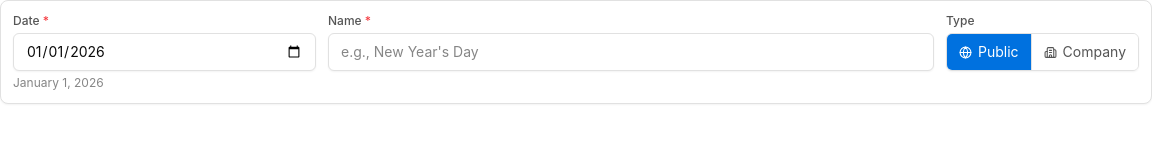
Scenario: HolidayForm › name validation › shows error for empty name after touch
Click the field with placeholder "e.g., New Year's Day". click: (631, 52)
box: [328,33,934,71]
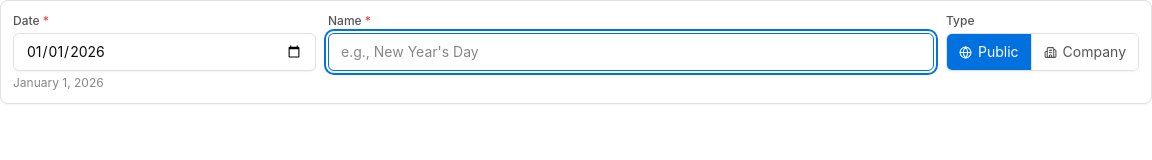
Press Tab
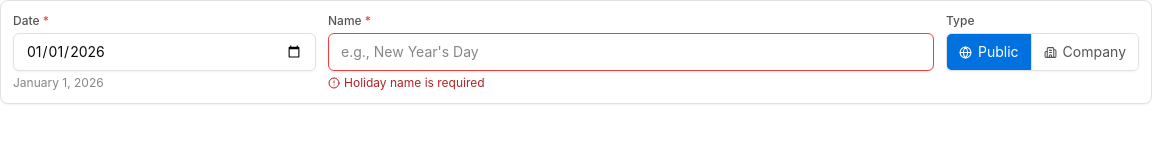
Expected: the text "Holiday name is required" is shown, [328,75,485,90]
